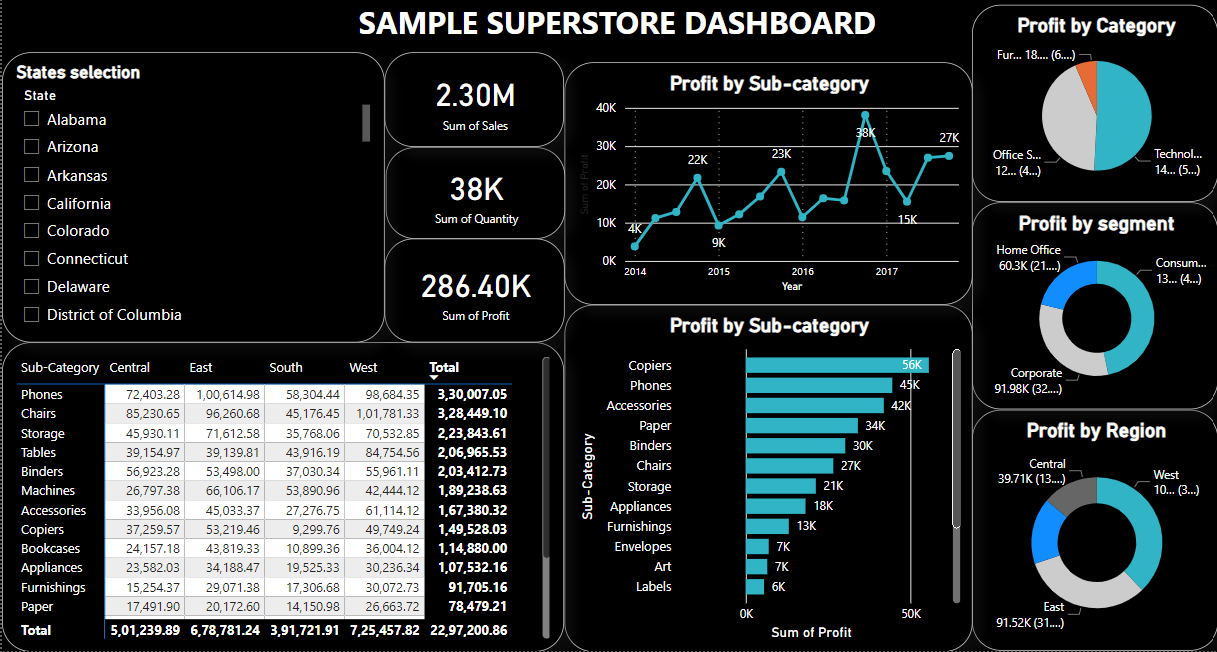

This screenshot's page, from the dashboard's own definition file:
{"tool":"powerbi","page":{"name":"Page 1","canvas":[1265,681],"ordinal":0},"visuals":[{"type":"textbox","box":[18.5,13.9,1249.8,45.1],"z":0},{"type":"donutChart","title":"Profit by Region","fields":{"Y":["Sum(Orders.Profit)"],"Category":["Orders.Region"]},"box":[1008.2,444,256.7,237],"z":1000},{"type":"donutChart","title":"Profit by segment ","fields":{"Y":["Sum(Orders.Profit)"],"Category":["Orders.Segment"]},"box":[1008.2,228.9,256.7,215.1],"z":2000},{"type":"pieChart","title":"Profit by Category ","fields":{"Y":["Sum(Orders.Profit)"],"Category":["Orders.Category"]},"box":[1008.2,13.9,256.7,215.1],"z":3000},{"type":"barChart","title":"Profit by Sub-category ","fields":{"Y":["Sum(Orders.Profit)"],"Category":["Orders.Sub-Category"]},"box":[583.9,320.3,424.3,360.7],"z":4000},{"type":"lineChart","title":"Profit by Sub-category ","fields":{"Y":["Sum(Orders.Profit)"],"Category":["Orders.Order Date.Variation.Date Hierarchy.Year","Orders.Order Date.Variation.Date Hierarchy.Quarter"]},"box":[583.9,68.2,424.3,252.1],"z":5000},{"type":"pivotTable","title":"Profit by Sub-category ","fields":{"Rows":["Orders.Sub-Category"],"Columns":["Orders.Region"],"Values":["Sum(Orders.Sales)"]},"box":[0,359.6,583.9,321.4],"z":6000},{"type":"card","fields":{"Values":["Sum(Orders.Quantity)"]},"box":[398.9,157.2,186.1,94.8],"z":7000},{"type":"card","fields":{"Values":["Sum(Orders.Profit)"]},"box":[397.7,252.1,186.1,99.4],"z":8000},{"type":"card","fields":{"Values":["Sum(Orders.Sales)"]},"box":[397.7,59,186.1,98.3],"z":9000},{"type":"slicer","title":"States selection ","fields":{"Values":["Orders.State"]},"box":[9.2,59,388.5,292.5],"z":10000}]}

Visuals, with their boxes in screenshot pixels (x1, y1, x2, y2), scaled from the page's 1265x681 canvas onto the 1217x652 screenshot:
textbox: (18, 13, 1216, 56)
"Profit by Region" donutChart: (970, 425, 1216, 651)
"Profit by segment " donutChart: (970, 219, 1216, 425)
"Profit by Category " pieChart: (970, 13, 1216, 219)
"Profit by Sub-category " barChart: (562, 307, 970, 651)
"Profit by Sub-category " lineChart: (562, 65, 970, 307)
"Profit by Sub-category " pivotTable: (0, 344, 562, 651)
card - Sum(Orders.Quantity): (384, 151, 563, 241)
card - Sum(Orders.Profit): (383, 241, 562, 337)
card - Sum(Orders.Sales): (383, 56, 562, 151)
"States selection " slicer: (9, 56, 383, 337)
